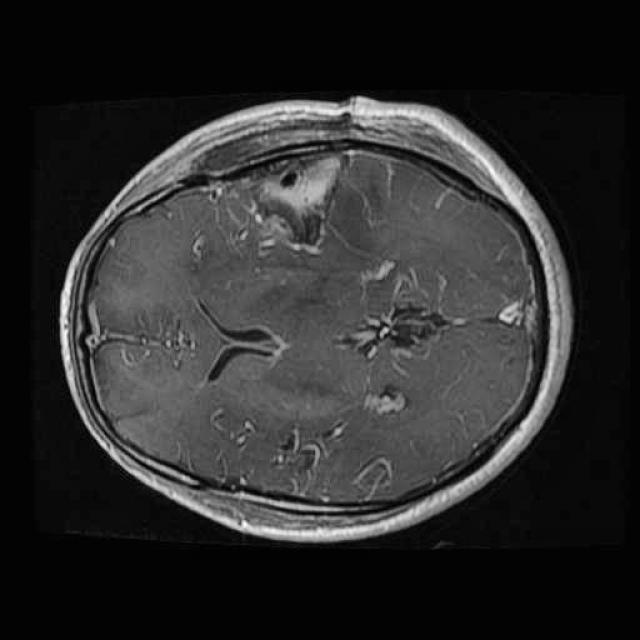Tumor: (206, 135, 358, 265)
